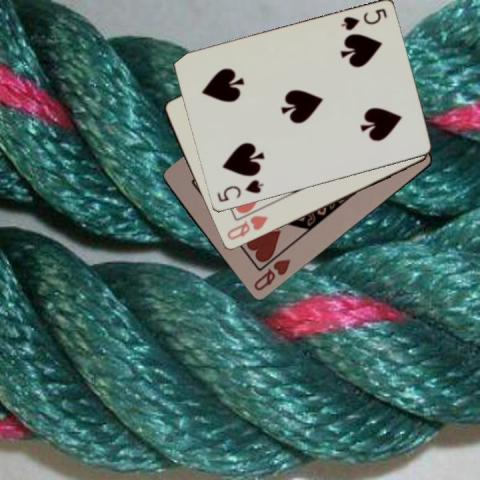5s: (214, 177, 266, 204), (337, 6, 389, 32)
Qh: (251, 256, 292, 293), (224, 213, 270, 242)
